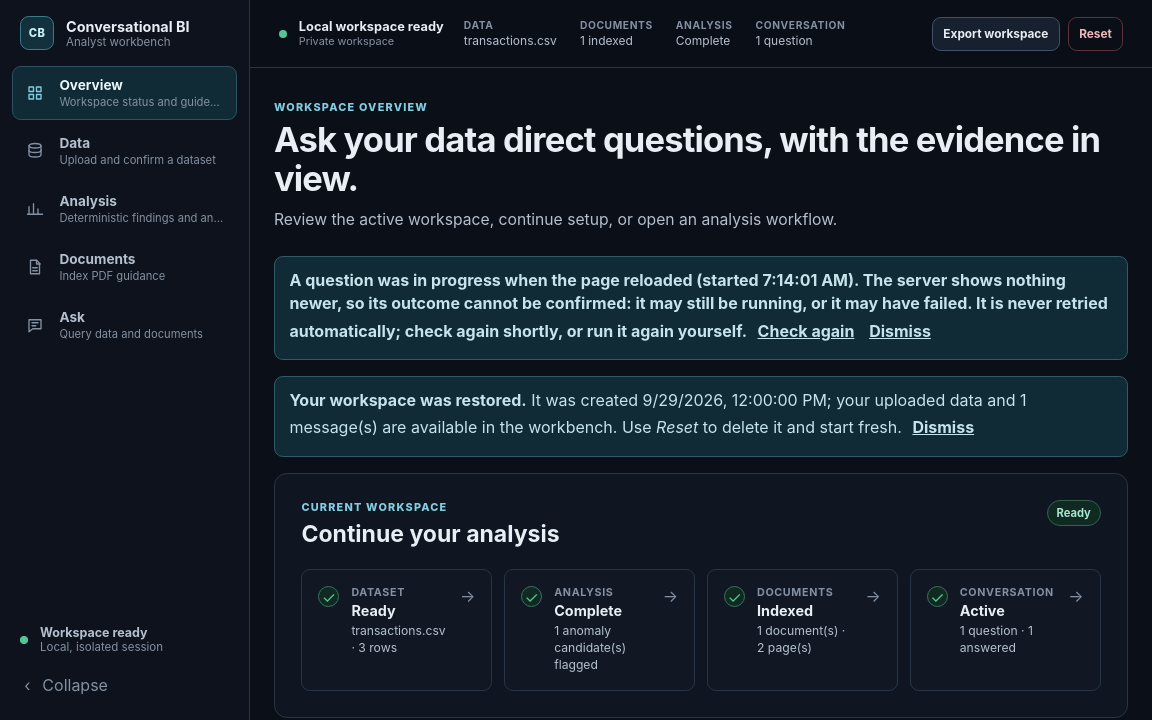
Scenario: reload during an operation › says when completion cannot be confirmed, never retries, and keeps the marker until checked or dismissed
The width and height of the screenshot is (1152, 720).
Expected: the text "A question was in progress when the page reloaded" shows "its outcome cannot be confirmed", [289,270,1108,341]
Expected: the text "A question was in progress when the page reloaded" shows "It is never retried automatically", [289,270,1108,341]
Click the button "Check again" at (806, 331), box [753,316,859,347]
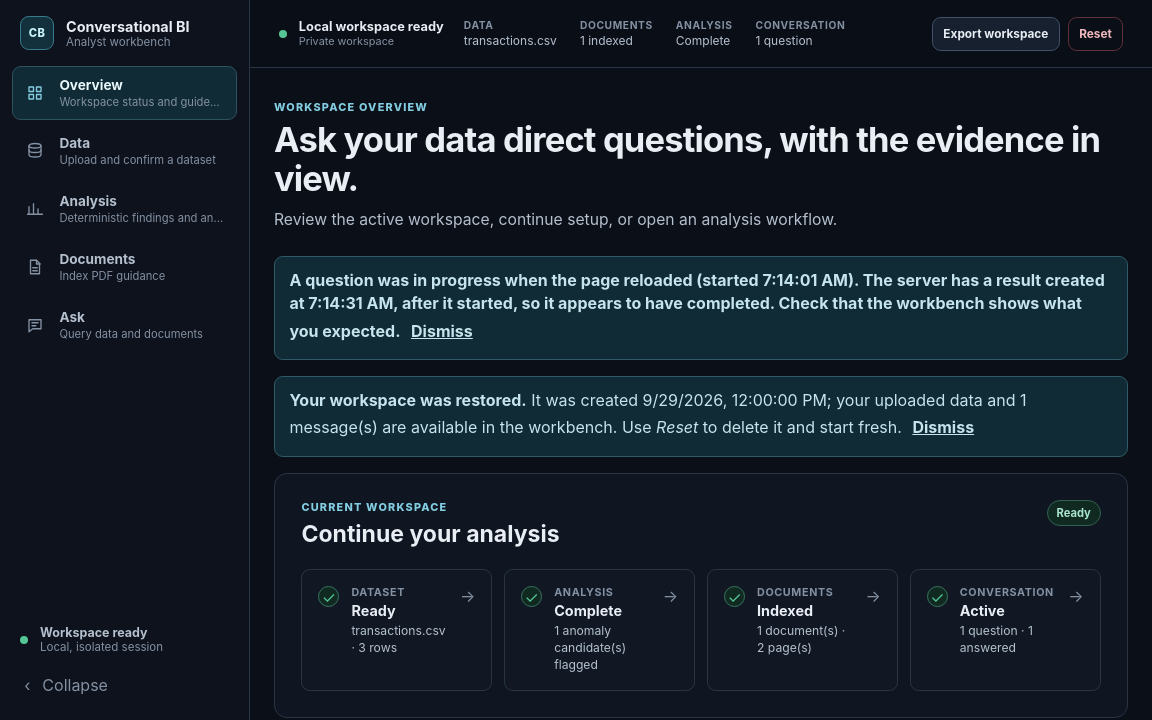
Expected: the text "so it appears to have completed" is shown, [289,270,1105,341]
